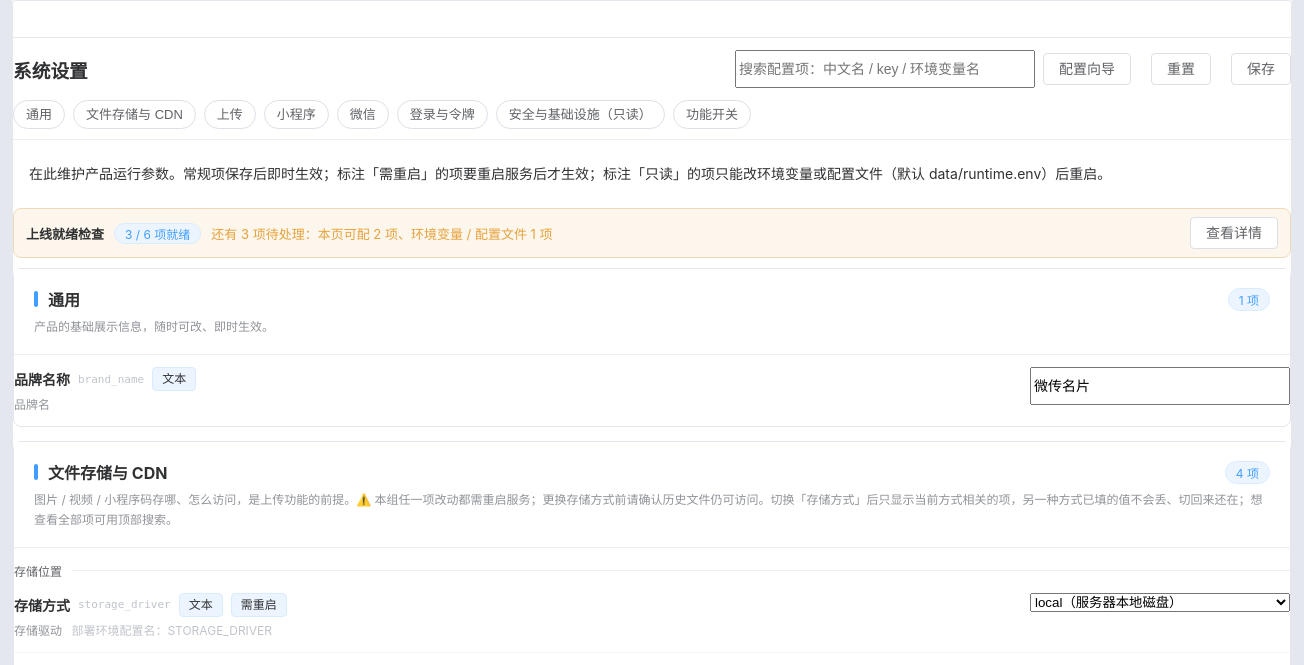
Test: Settings 系统设置 › 保存返回需重启项时给出告警提示，避免误以为没生效
The image size is (1304, 665).
Expected: the element showing "存储方式 storage_driver 文本 需重启 存储驱动 部署环境配置名：STORAGE_DRIVER" is shown, 14,581 -> 1290,653
Select "oss（阿里云 OSS）" in the dropdown at x=1160, y=602, box 1030,593 -> 1290,612
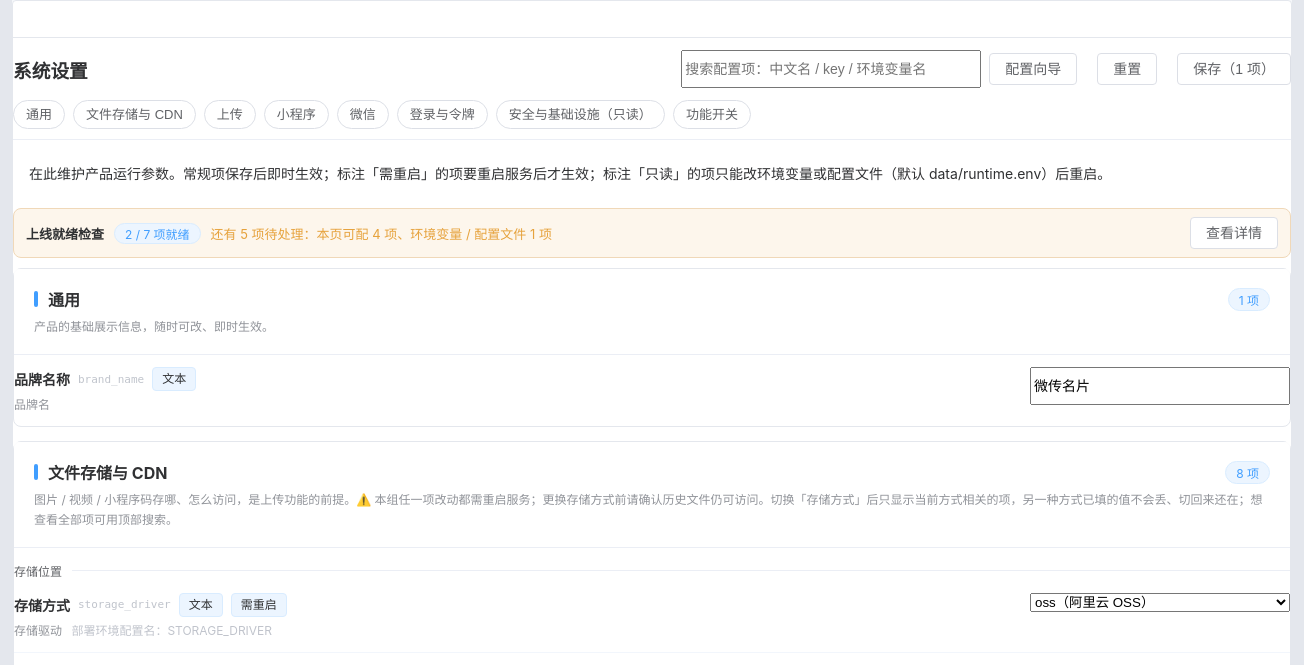
Click the button "保存（1 项）" at x=1234, y=69, box 1177,53 -> 1291,85
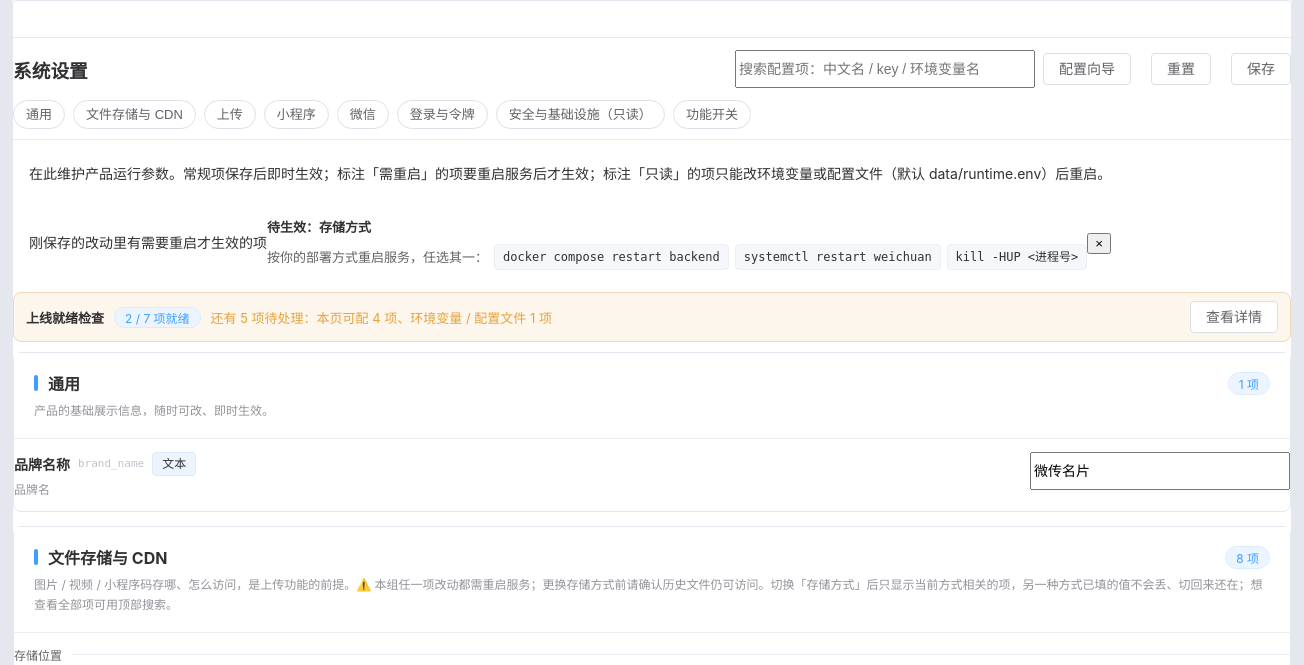
Result: the element with class "restart-alert" is shown at 13,208 -> 1291,278
Result: the element with class "restart-alert" shows "存储方式" at 267,219 -> 371,235
Result: the element with class "restart-alert" shows "docker compose restart backend" at 503,250 -> 720,264
